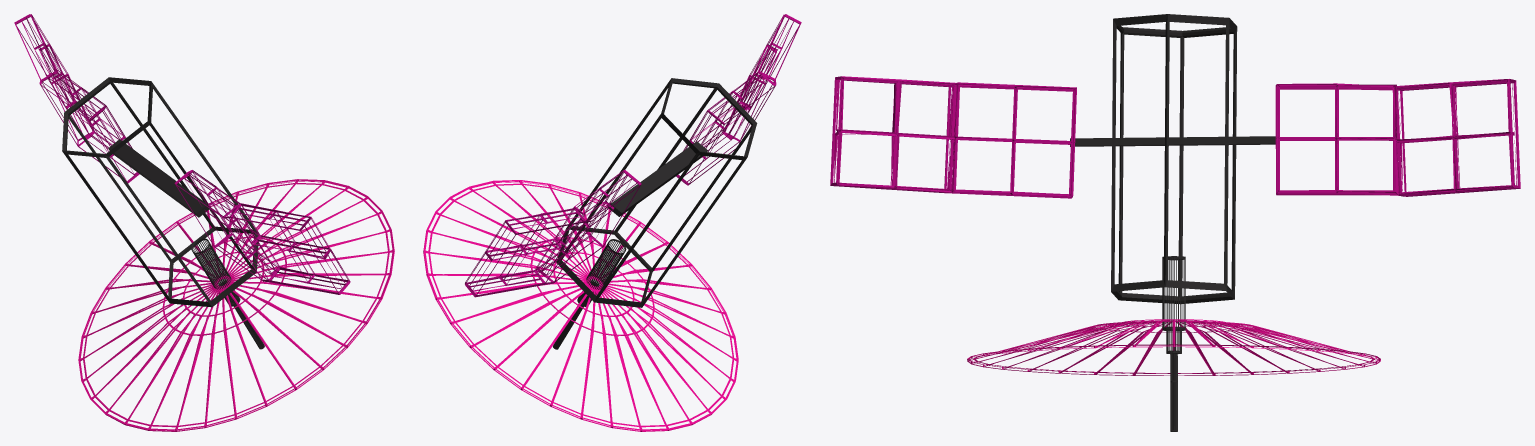
File: satelit2.fbx
3 views of the same model, side by side, from view 1: azimuth 30°, elevation 25°; view 2: azimuth 150°, elevation 25°; view 3: azimuth 270°, elevation 25° (orthographic). The views are drawn at different scales.
Parts seen in each view (by area): view 1: Cylinder.002, Cylinder.003, Cube.002, Cube.001, Cube, Cylinder.001; view 2: Cylinder.002, Cylinder.003, Cube.001, Cube.002, Cube, Cylinder.001; view 3: Cylinder.003, Cylinder.002, Cube.002, Cube.001, Cylinder.001, Cube.
Boxes of the visible parts, x1=… form: Cylinder.002: x1=78, y1=179, x2=394, y2=431; Cylinder.003: x1=62, y1=77, x2=258, y2=307; Cube.002: x1=174, y1=170, x2=350, y2=294; Cube.001: x1=14, y1=14, x2=139, y2=183; Cube: x1=108, y1=139, x2=209, y2=217; Cylinder.001: x1=191, y1=238, x2=264, y2=349; Cylinder.002: x1=423, y1=180, x2=738, y2=431; Cylinder.003: x1=556, y1=78, x2=757, y2=307; Cube.001: x1=465, y1=170, x2=641, y2=297; Cube.002: x1=676, y1=14, x2=801, y2=185; Cube: x1=608, y1=141, x2=707, y2=216; Cylinder.001: x1=553, y1=239, x2=626, y2=349; Cylinder.003: x1=1111, y1=14, x2=1237, y2=303; Cylinder.002: x1=967, y1=319, x2=1380, y2=375; Cube.002: x1=830, y1=76, x2=1076, y2=198; Cube.001: x1=1275, y1=79, x2=1520, y2=196; Cylinder.001: x1=1162, y1=256, x2=1185, y2=431; Cube: x1=1070, y1=136, x2=1275, y2=146.
Bounding box in the file's own units: 836 × 858 × 1387.
